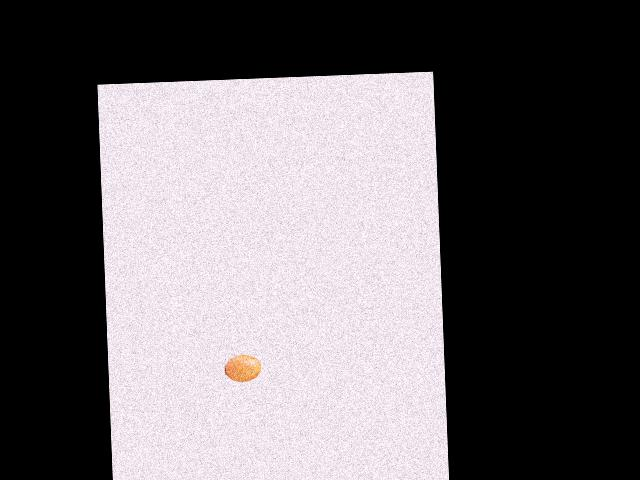egg: (224, 354, 262, 382)
